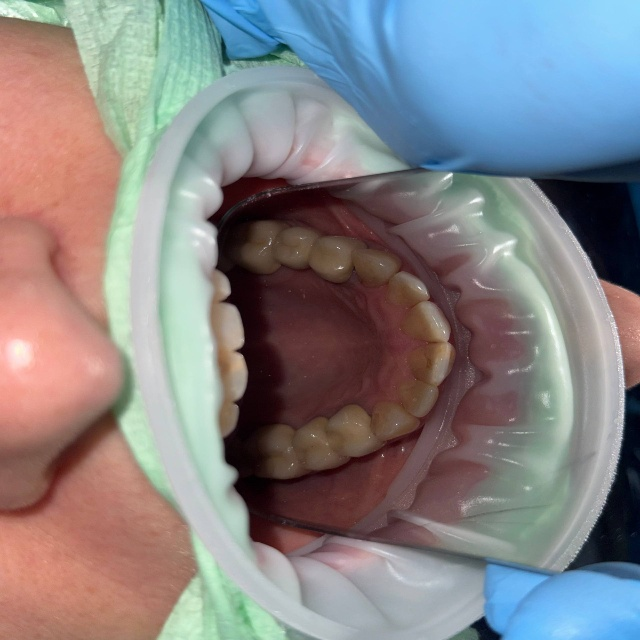clean_tooth: (547, 226, 602, 363), (208, 303, 246, 399)
plaque: (202, 0, 639, 218), (483, 560, 639, 639)
